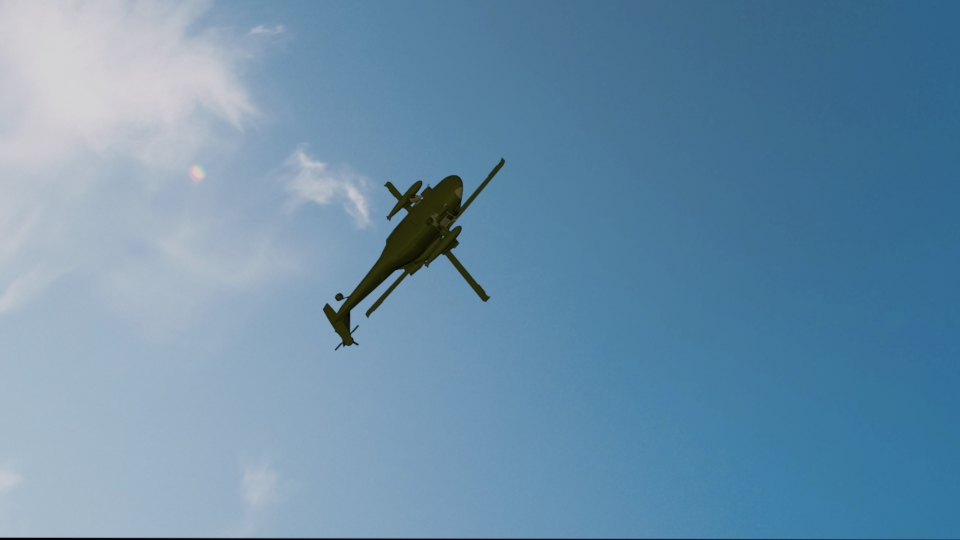heli: (319, 155, 506, 355)
